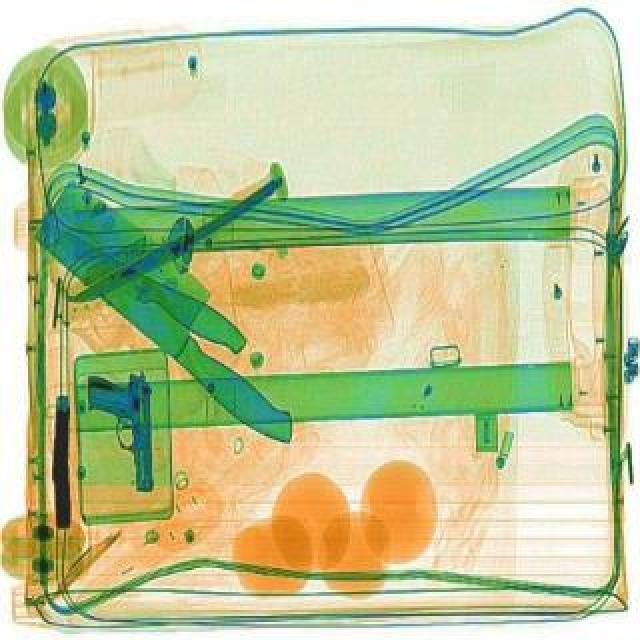gun: (84, 366, 156, 492), (48, 392, 76, 524)
knife: (18, 170, 334, 450), (22, 208, 254, 360), (62, 176, 290, 308)
